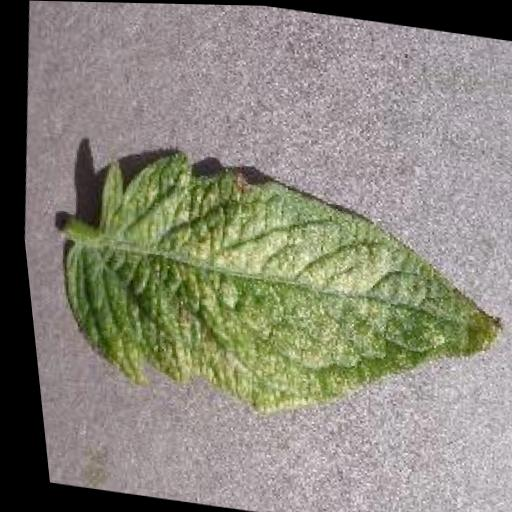Spider Mites: (37, 135, 512, 447)
